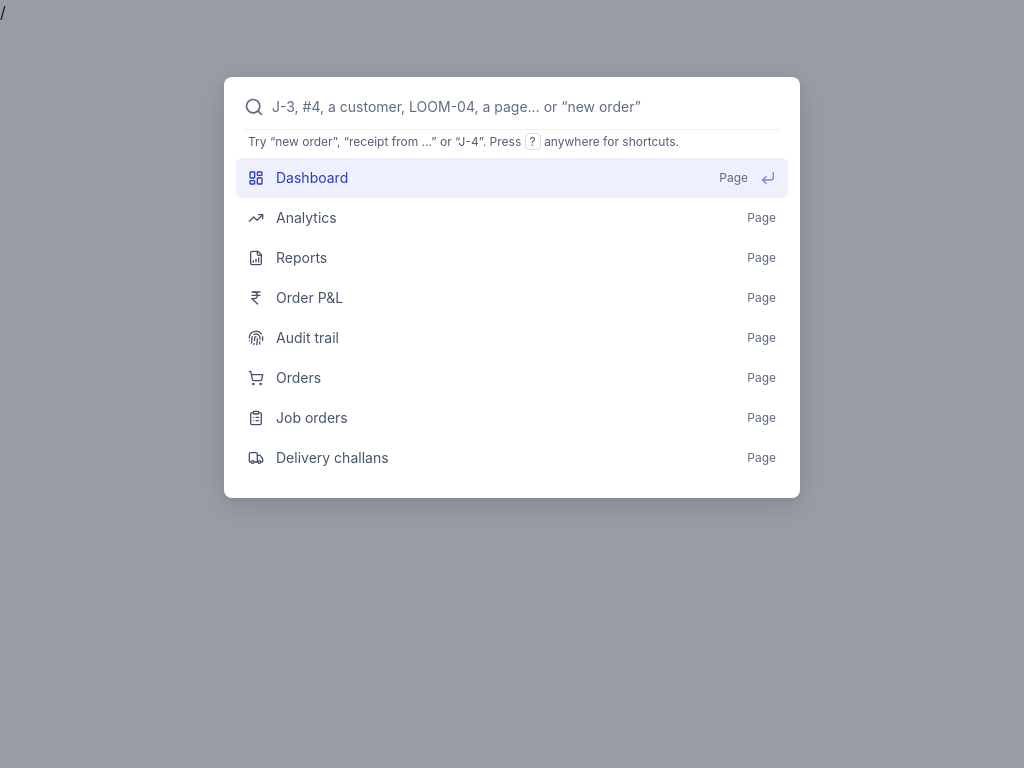
Test: actions in search › “go to J-4” finds J-4
Type "go to J-4" into the field named "Search everything" at [526, 107], box [272, 97, 780, 117]
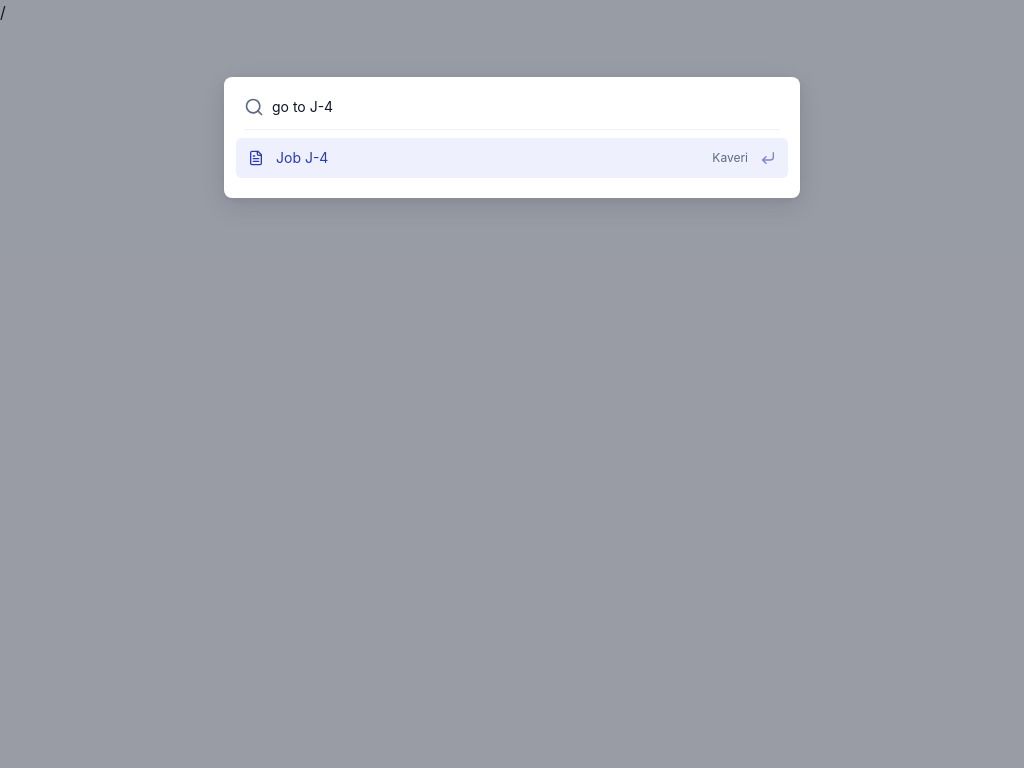
Result: the text "Job J-4" is shown at [276, 149, 328, 166]
